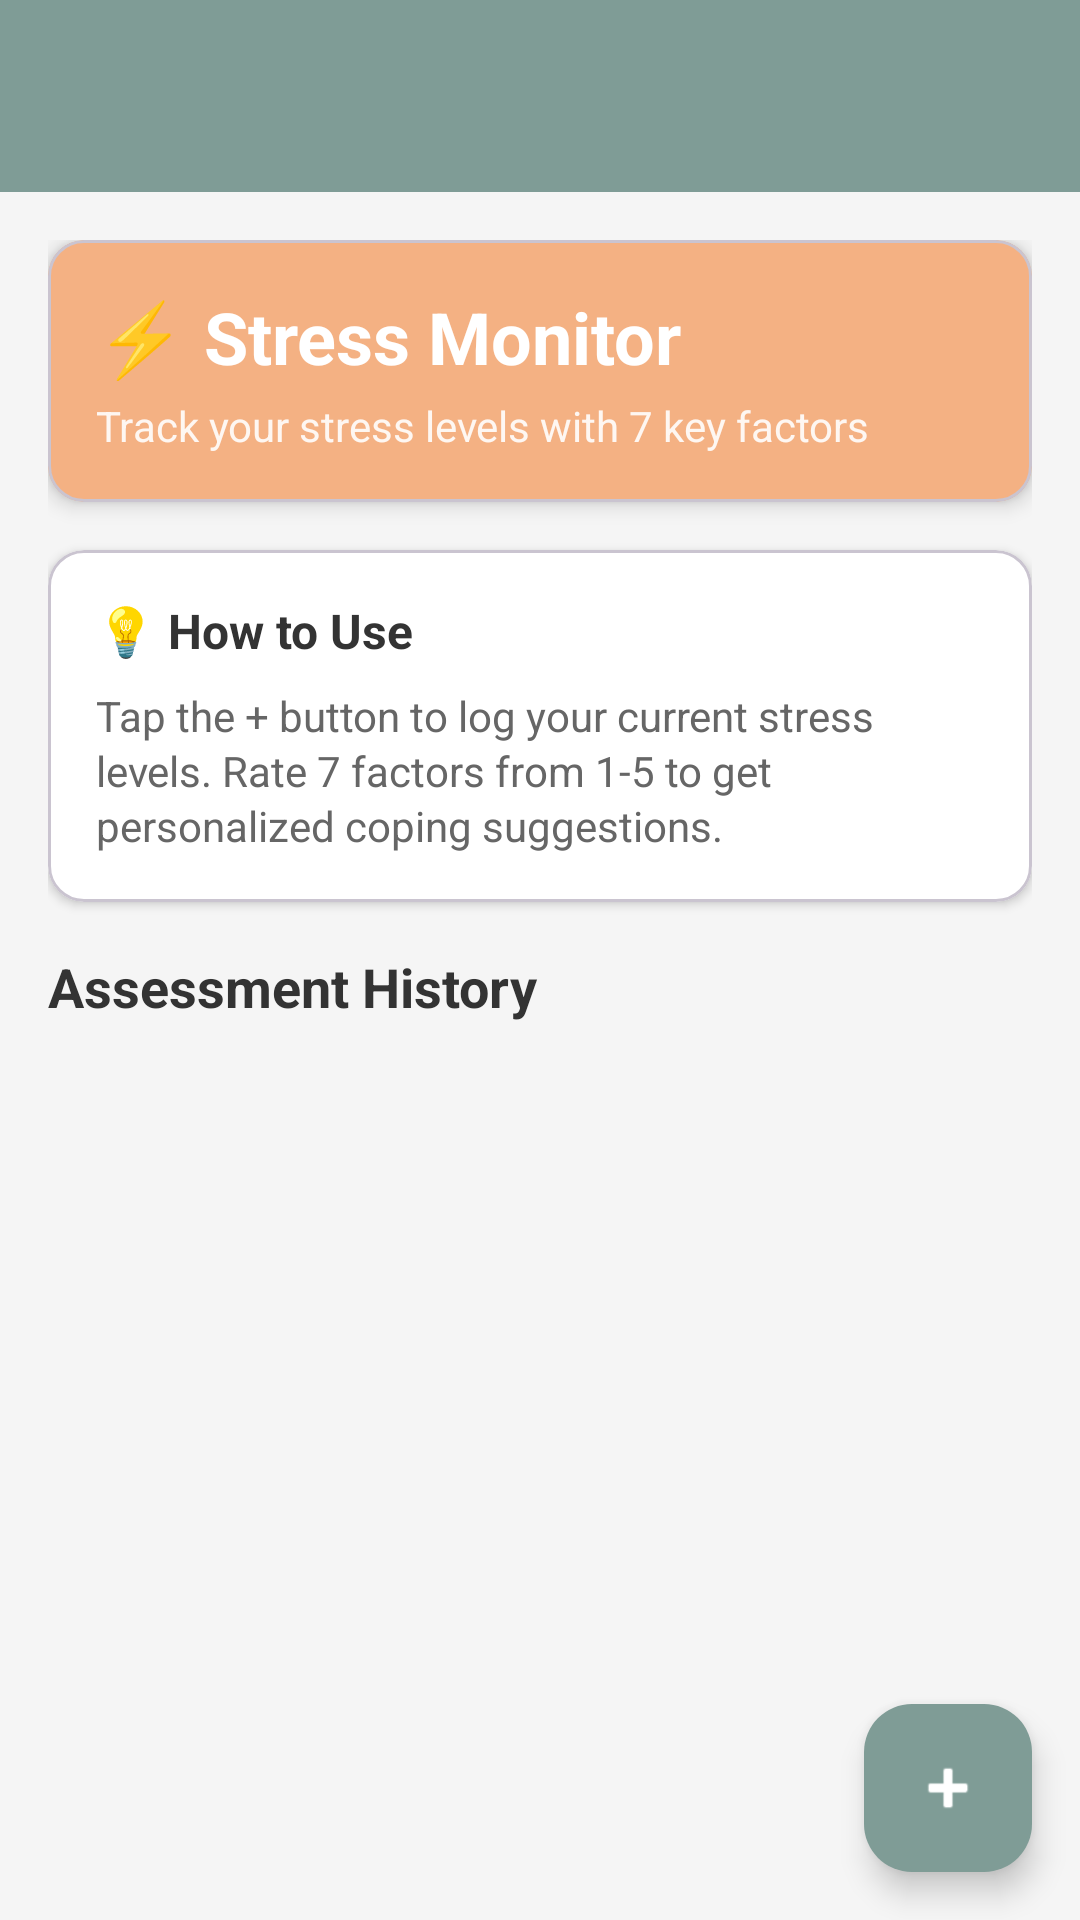

Icons on this 1080*1920 Android screen, each with the point to tap as [x,y]:
Log Stress: [948,1788]
